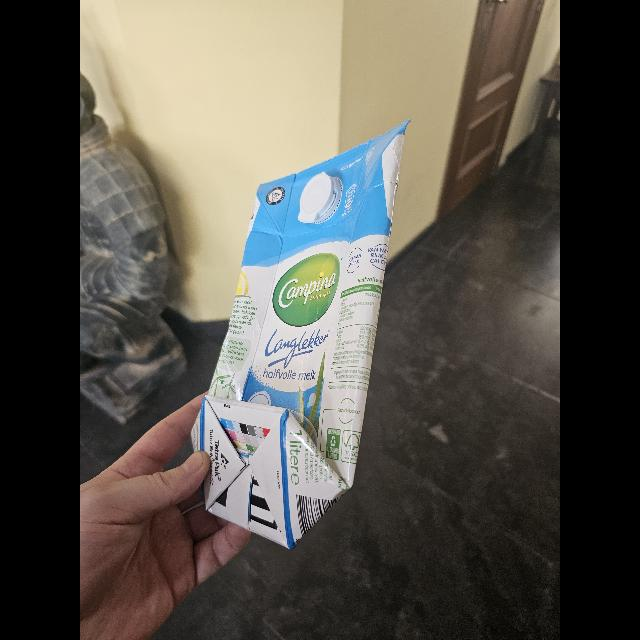Cardboard: (188, 117, 412, 548)
Plastic: (295, 171, 343, 223)
